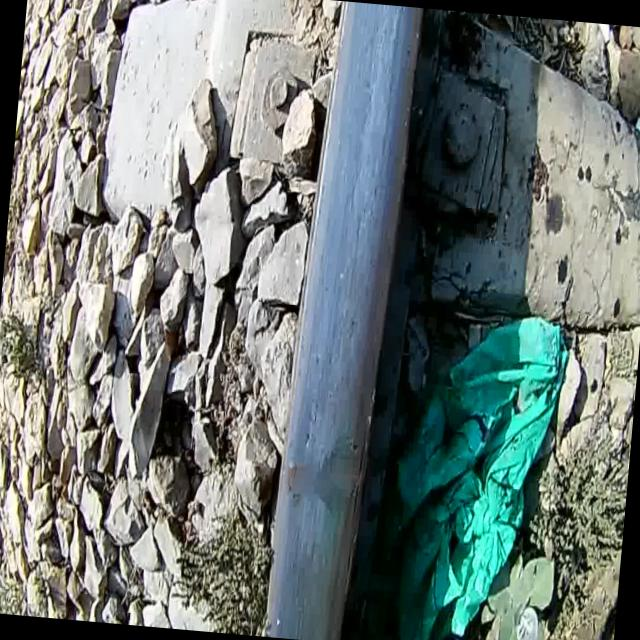Squats: (238, 0, 447, 640)
